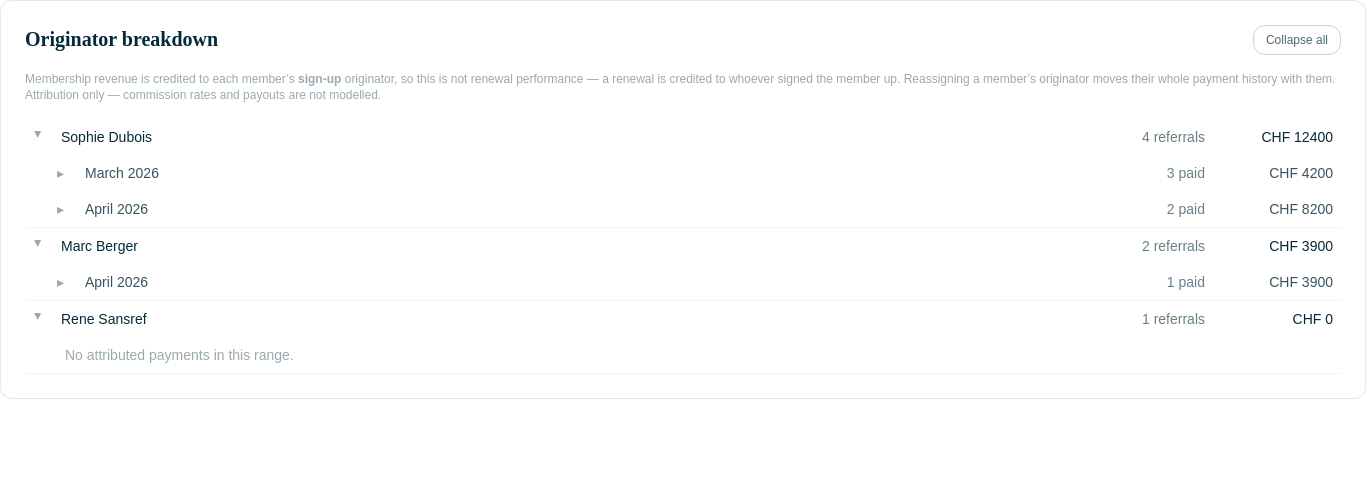
Scenario: OriginatorBreakdownPanel › reveals only the clicked originator-and-month's payments, under a header row
Click the button "▸ April 2026 2 paid CHF 8200": [117, 209] box [25,191,1341,227]
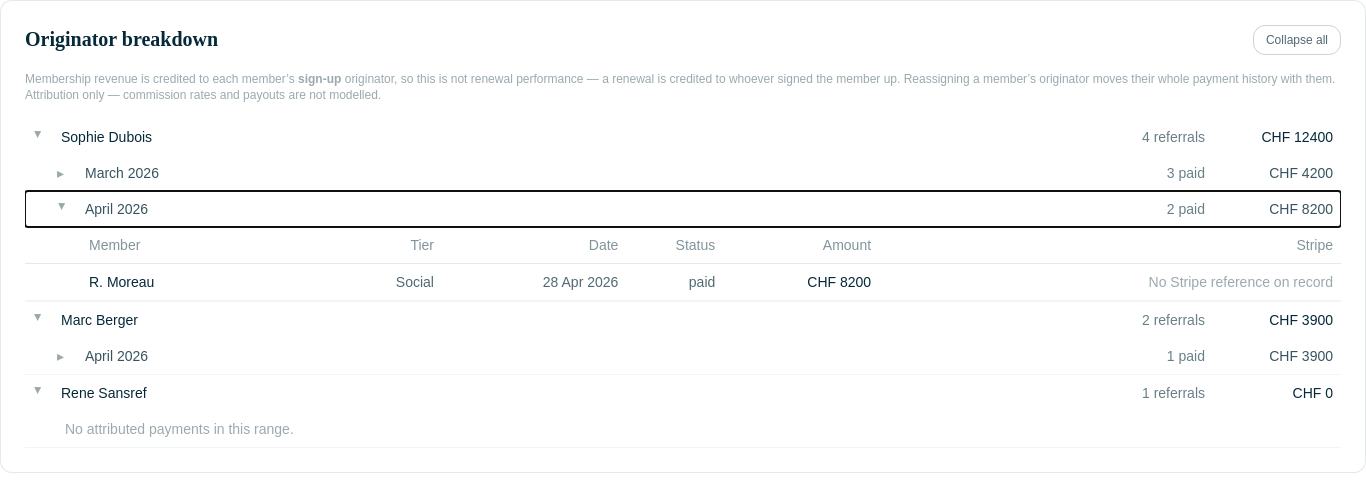
Check: the text "R. Moreau" is shown, box [25,264,341,300]
Check: the column headings read "Member", "Tier", "Date", "Status", "Amount", "Stripe", in this order, box [25,227,341,264]; [341,227,434,264]; [434,227,618,264]; [618,227,715,264]; [715,227,871,264]; [871,227,1341,264]
